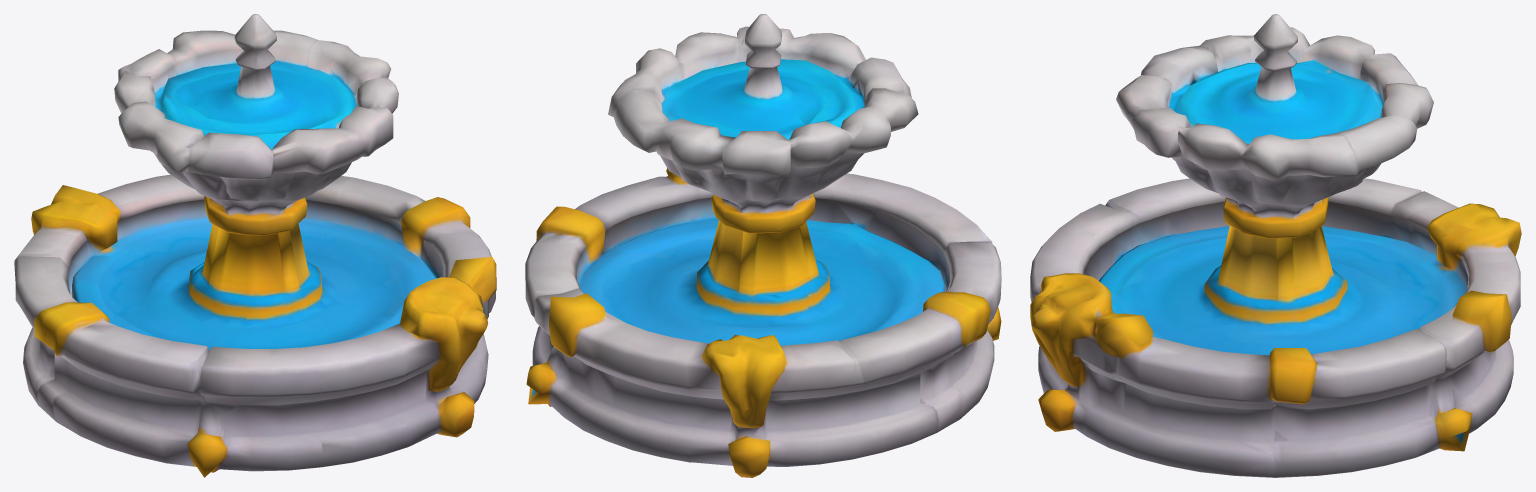
Rendered from fonte.glb.
3 views of the same model, side by side, from view 1: azimuth 30°, elevation 25°; view 2: azimuth 150°, elevation 25°; view 3: azimuth 270°, elevation 25° (orthographic). The views are drawn at different scales.
Parts seen in each view (by area): view 1: tripo_node_25829009-c417-4e36-8d9a-6bd9d830d19b; view 2: tripo_node_25829009-c417-4e36-8d9a-6bd9d830d19b; view 3: tripo_node_25829009-c417-4e36-8d9a-6bd9d830d19b.
Part boxes in pixels (left/top/right/bottom): tripo_node_25829009-c417-4e36-8d9a-6bd9d830d19b: left=14, top=14, right=496, bottom=477; tripo_node_25829009-c417-4e36-8d9a-6bd9d830d19b: left=525, top=14, right=1001, bottom=477; tripo_node_25829009-c417-4e36-8d9a-6bd9d830d19b: left=1030, top=14, right=1521, bottom=477.
Size of the model in its own units: 0.978 by 0.7904 by 0.9551.
Materials: 1 (1 with a texture image).
